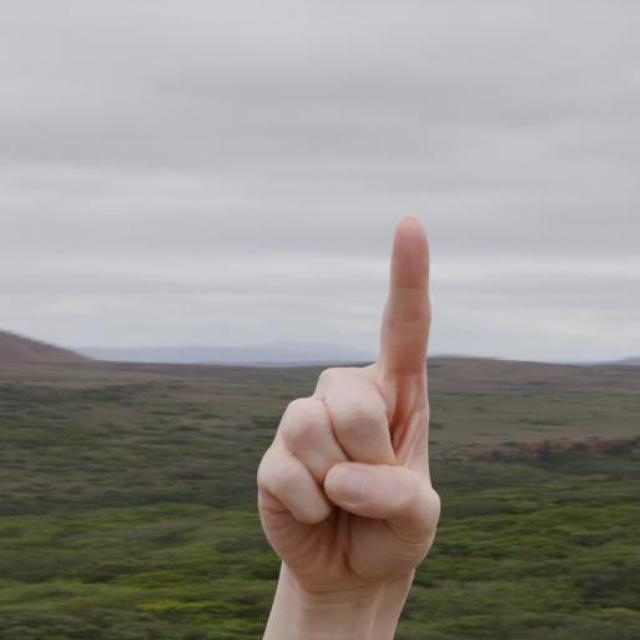Z: (252, 214, 444, 598)
